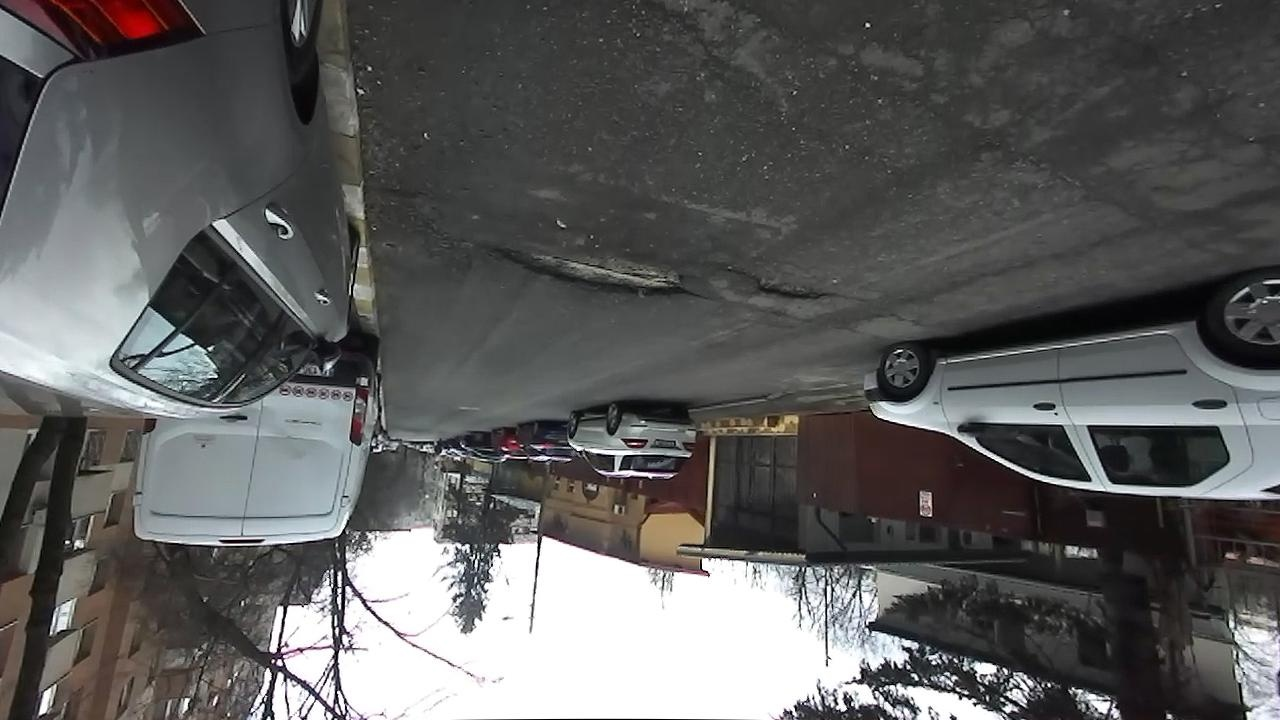pothole: (467, 233, 714, 307), (725, 262, 845, 303)
